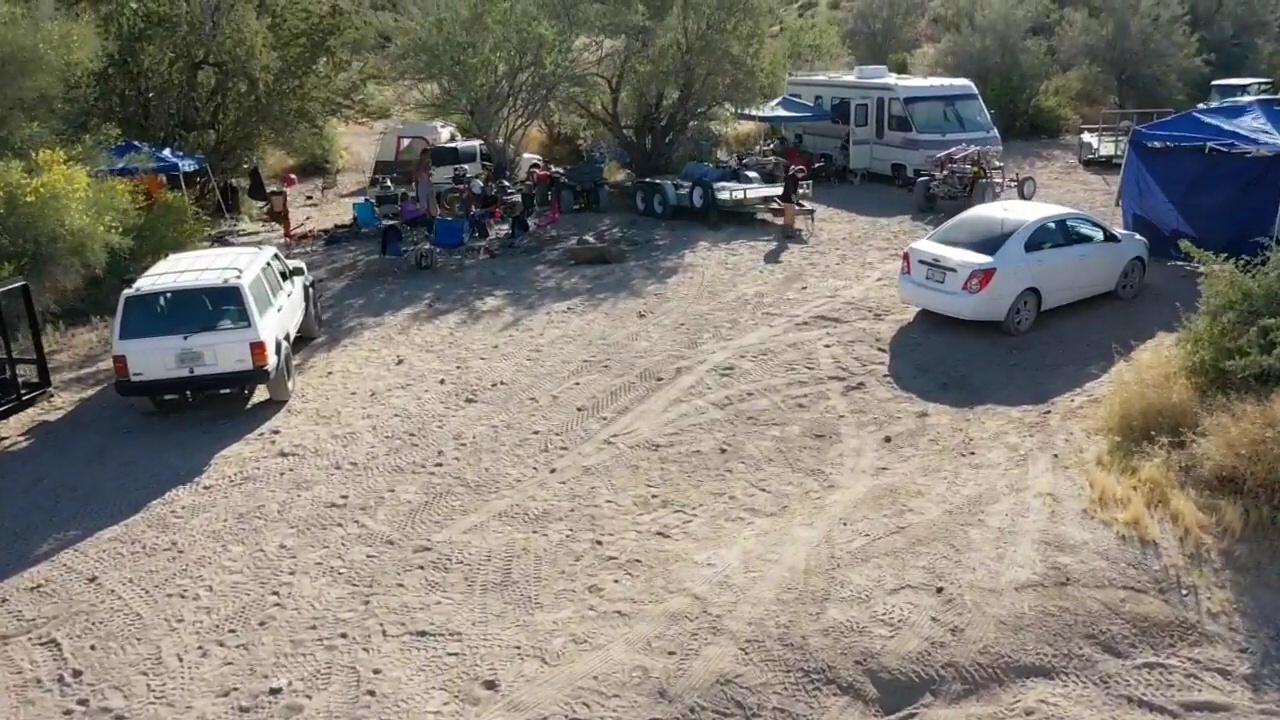araba: (109, 242, 325, 428), (889, 195, 1158, 328), (420, 134, 546, 201)
insan: (773, 160, 815, 241)
otobus: (770, 64, 1005, 184)
